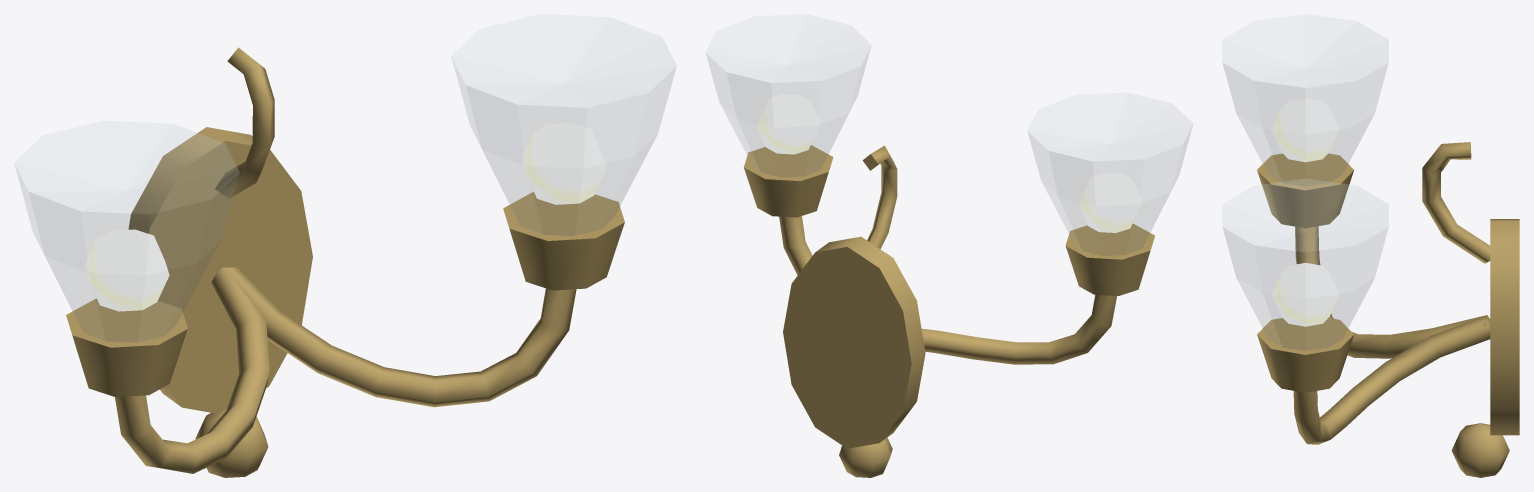
The model's file is sconce.glb.
3 renders of one model, left to right at view 1: azimuth 30°, elevation 25°; view 2: azimuth 150°, elevation 25°; view 3: azimuth 270°, elevation 25°, orthographic. The views are drawn at different scales.
Parts seen in each view (by area): view 1: brass__sconce__solid, glass__sconce__ns, bulb__sconce__ns; view 2: brass__sconce__solid, glass__sconce__ns, bulb__sconce__ns; view 3: glass__sconce__ns, brass__sconce__solid, bulb__sconce__ns.
Boxes of the visible parts, x1,y1,x2,y2 form: brass__sconce__solid: [66, 47, 624, 477]; glass__sconce__ns: [14, 14, 676, 342]; bulb__sconce__ns: [84, 123, 606, 311]; brass__sconce__solid: [743, 145, 1154, 477]; glass__sconce__ns: [706, 14, 1192, 255]; bulb__sconce__ns: [757, 94, 1141, 232]; glass__sconce__ns: [1222, 14, 1388, 350]; brass__sconce__solid: [1257, 142, 1519, 477]; bulb__sconce__ns: [1271, 98, 1339, 326].
Bounding box in the file's own units: 0.58 × 0.39 × 0.3056.
